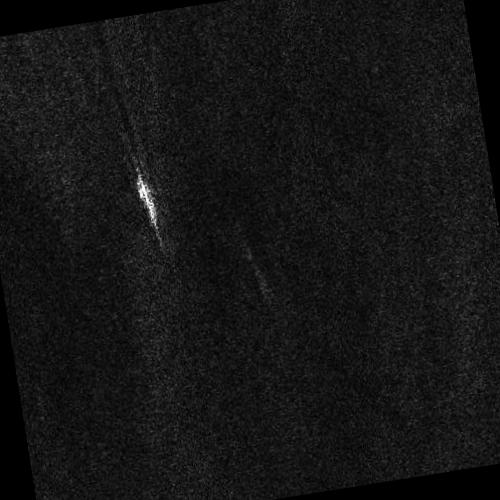ship: (137, 167, 158, 230)
